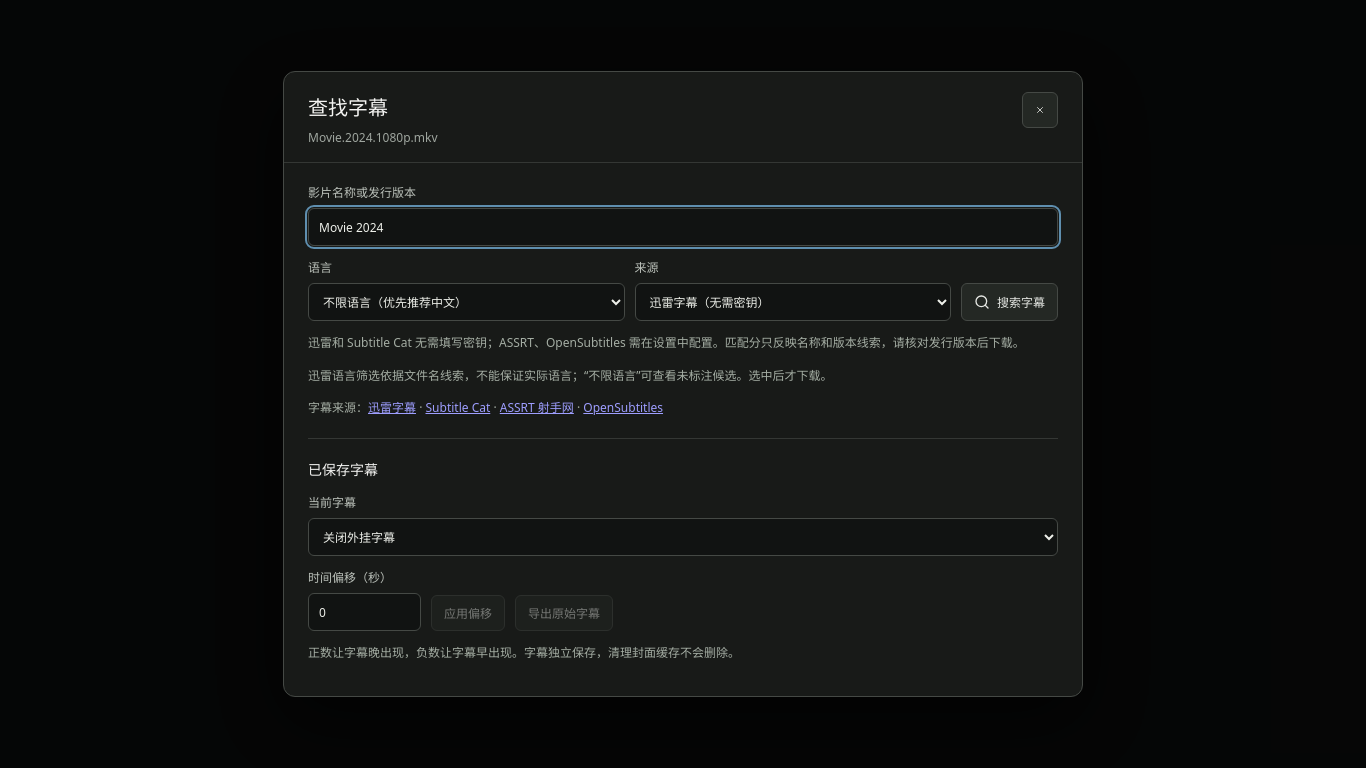
it: subtitle interaction › defaults to no-key Thunder and keeps Cat an explicit optional selection
Later steps or results of the test are not shown.
Expected: the dropdown labelled "来源" shows "迅雷字幕（无需密钥）", [634,283,951,321]
Expected: the dropdown labelled "语言" shows "不限语言（优先推荐中文）", [308,283,624,321]
Step 1. Click the button "搜索字幕" → x=1010, y=302, box [961,283,1058,321]
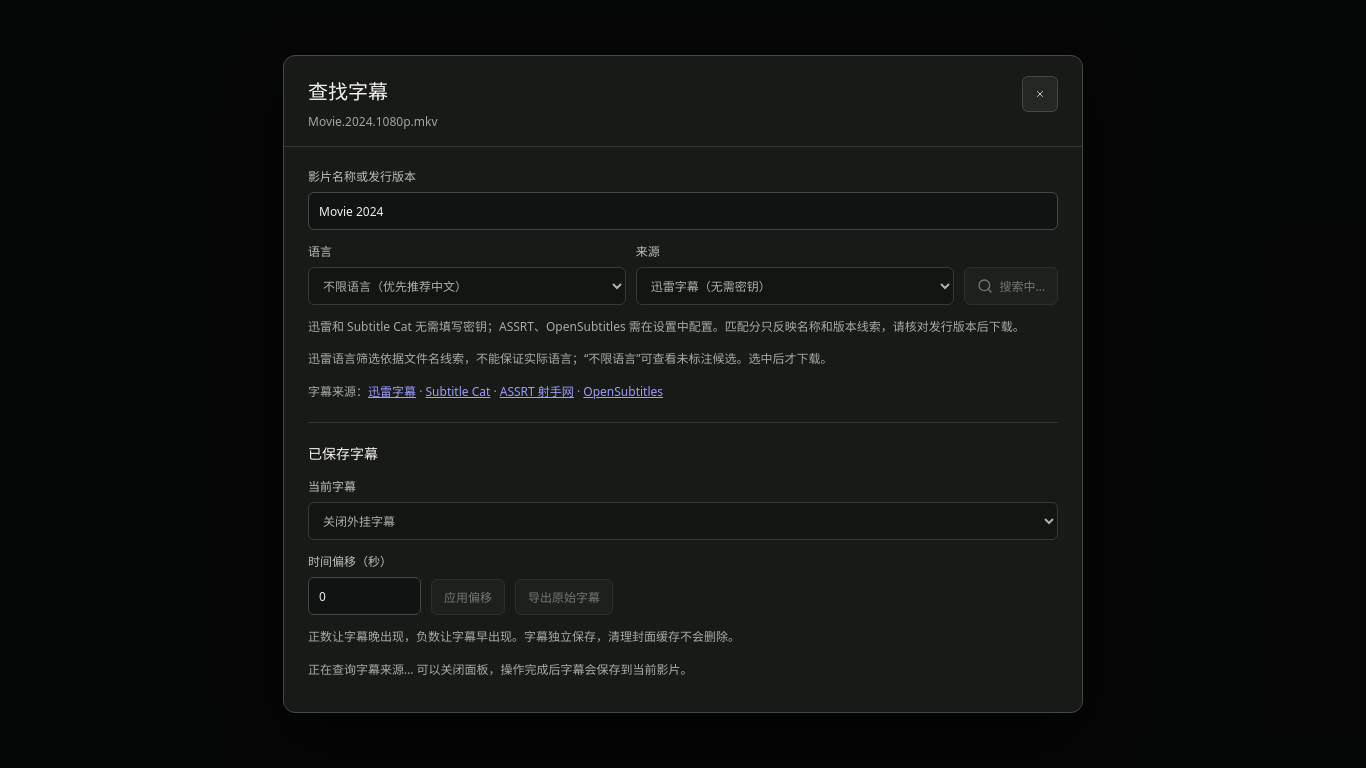
Step 2. Select "Subtitle Cat（可选网站）" in the dropdown labelled "来源" → x=795, y=286, box [636,267,954,305]
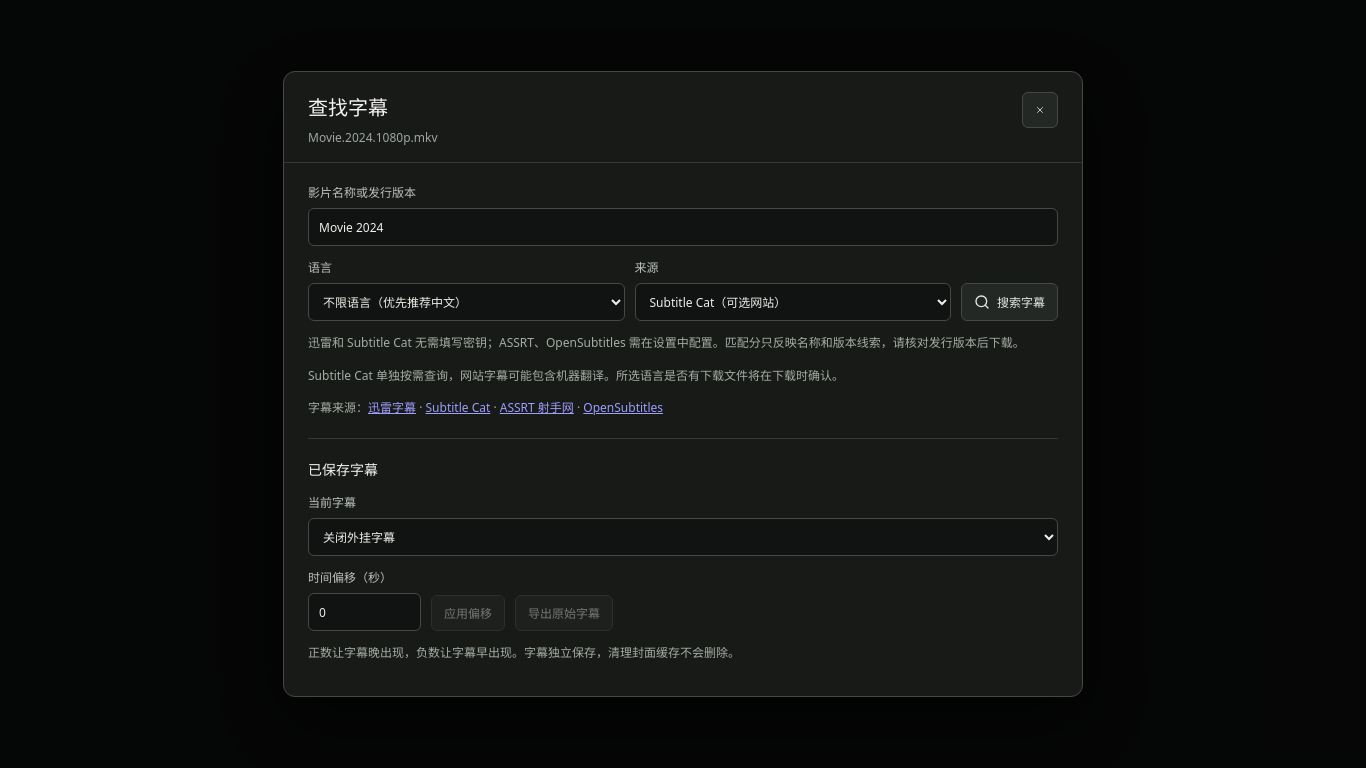
Result: the text "Subtitle Cat 单独按需查询，网站字幕可能包含机器翻译。所选语言是否有下载文件将在下载时确认。" is shown at [308,367,844,384]
